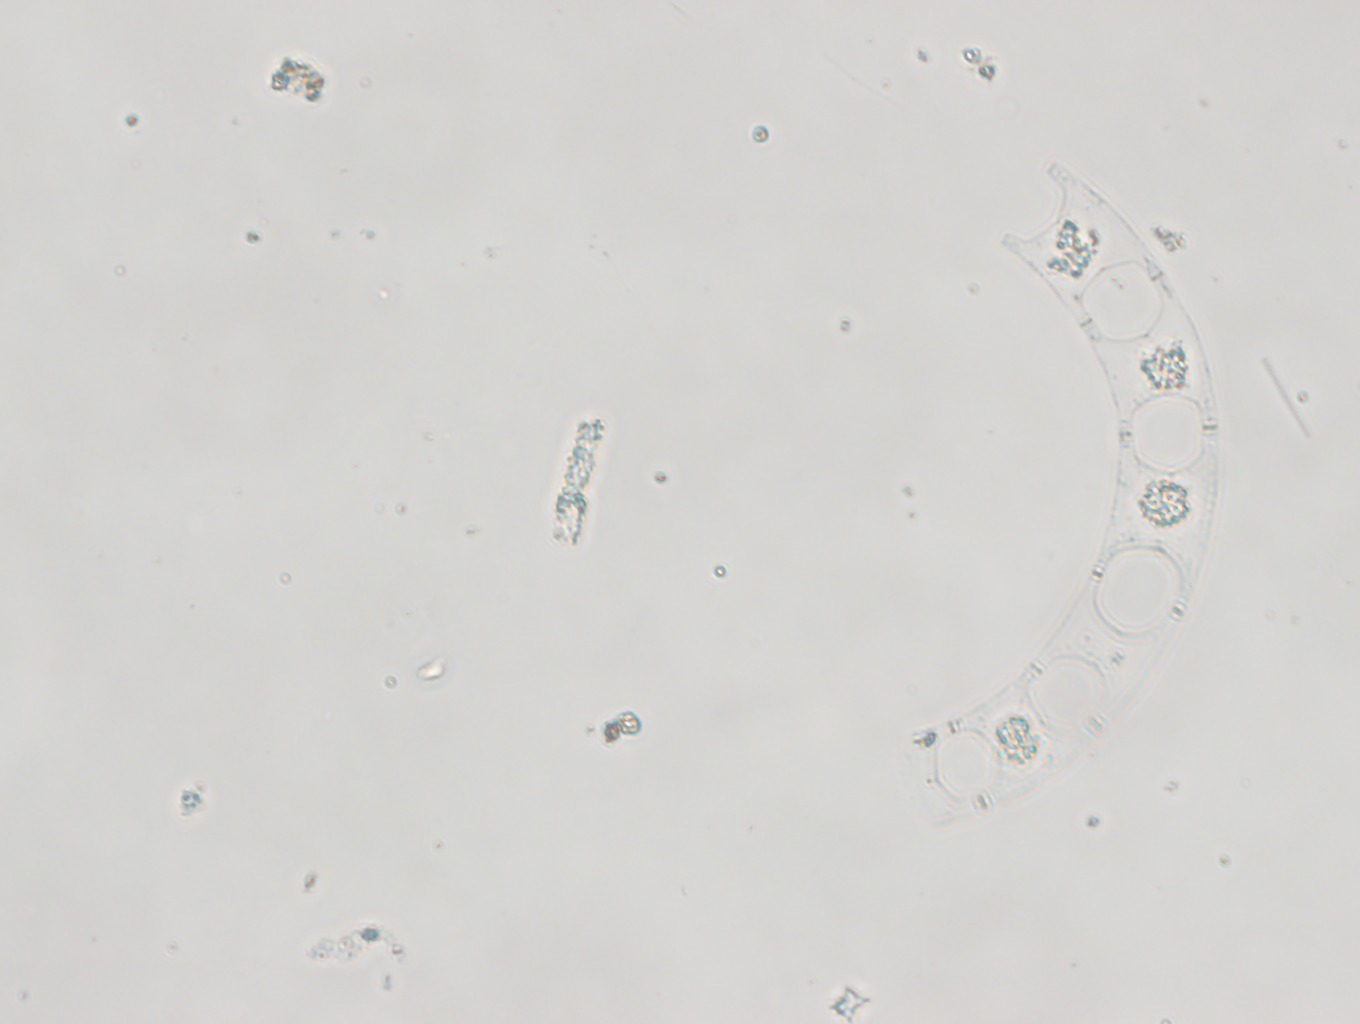eucampia: (908, 158, 1220, 825)
